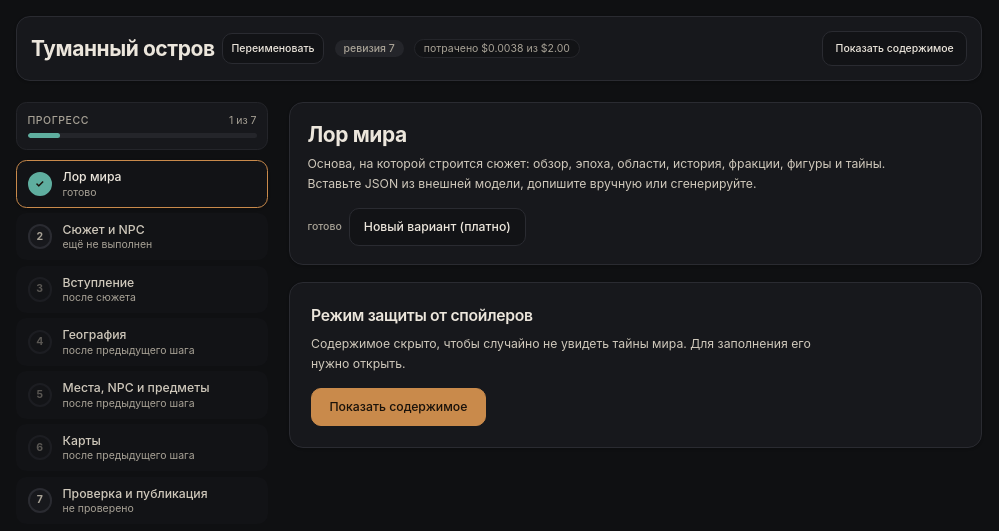
шаги показывают порядок: следующие закрыты, пока не готов предыдущий
Expected: the heading "Туманный остров" is shown, [31,34,215,62]
Click the text "Карты" at (82, 440), box [62,433,101,448]
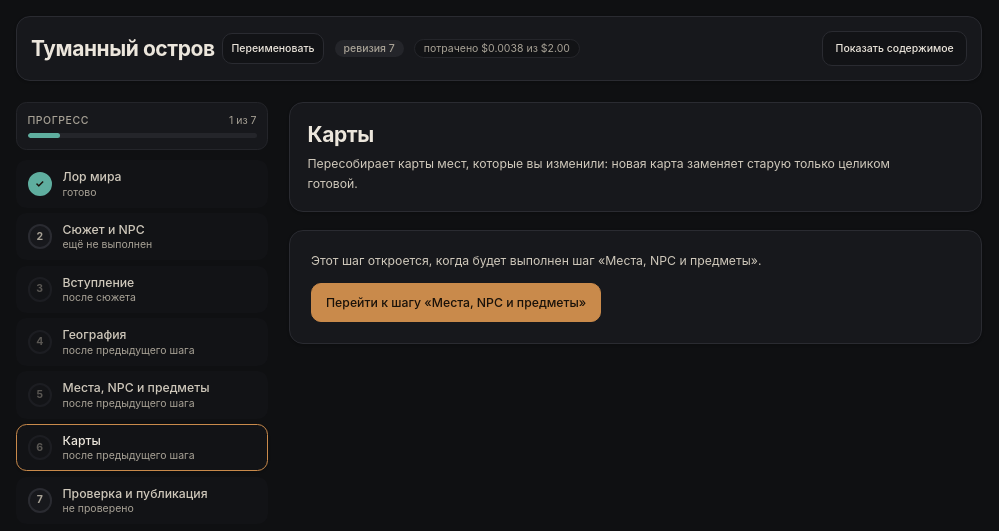
# закрытый шаг не показывает данные каркаса, а ведёт к шагу, которого не хватает
Click the button "Перейти к шагу «Места, NPC и предметы»" at (456, 302), box [311,283,601,322]
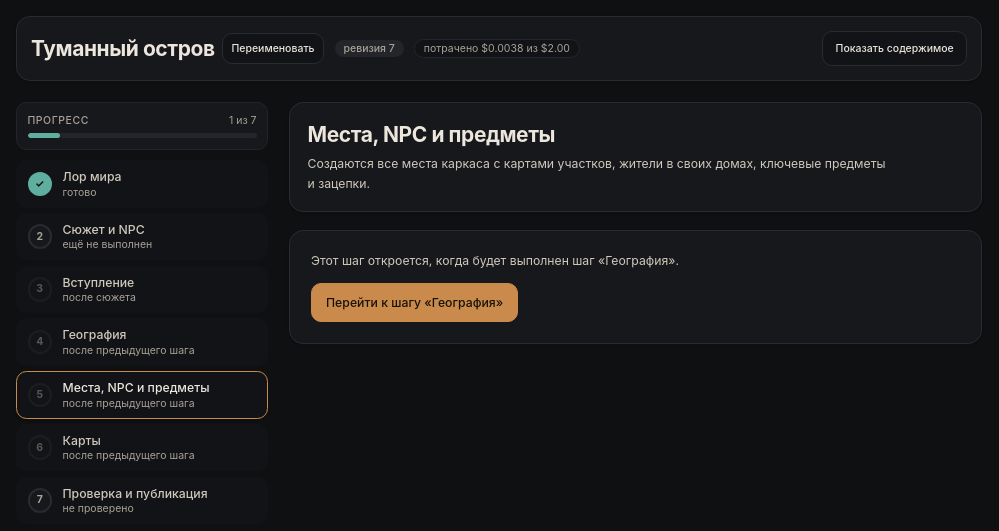
Result: the button "Перейти к шагу «География»" is shown at [311,283,518,322]
